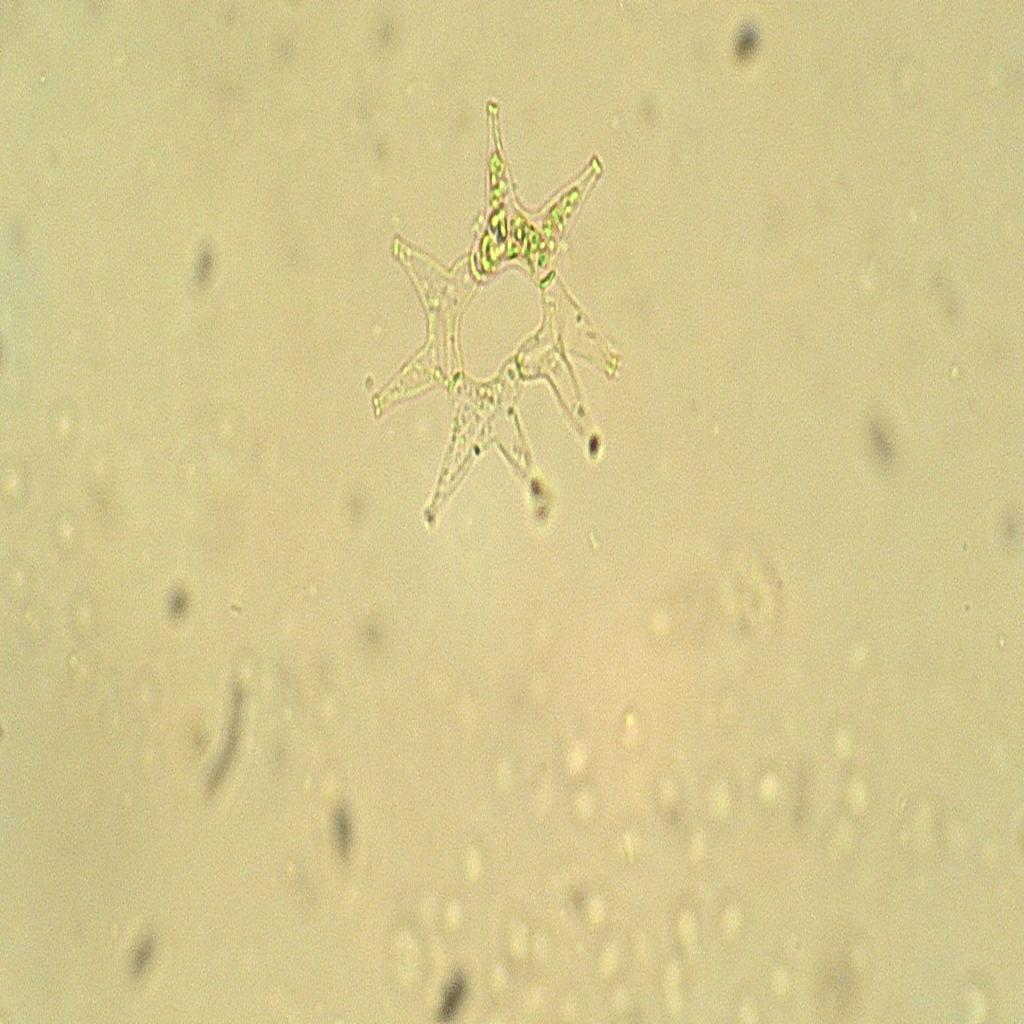Pediastrum_75TH: (352, 61, 645, 587)
